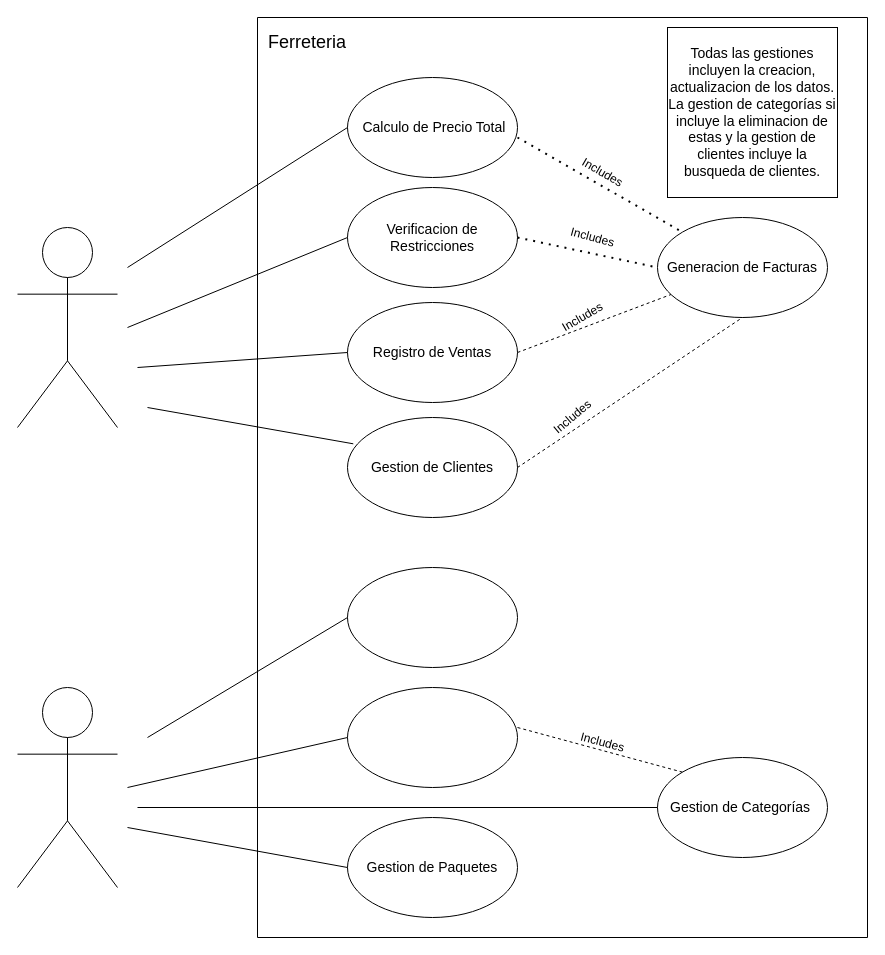
The diagram is 885 pixels wide and 955 high, and some of its shapes have lost their labels. Each missing label, with the box of its shape:
Administrador: (16, 686, 118, 888)
Cajero: (16, 226, 118, 428)
Gestion de Empleados: (346, 566, 518, 668)
Gestion de Productos: (346, 686, 518, 788)
